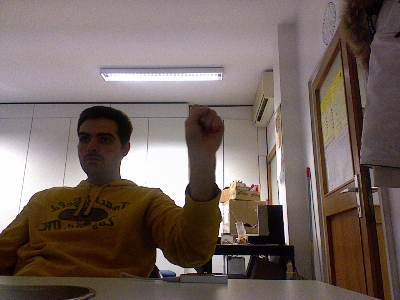石头: (181, 103, 223, 153)
